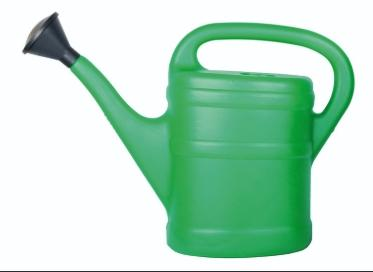ARROSOIR: (26, 0, 364, 272)
